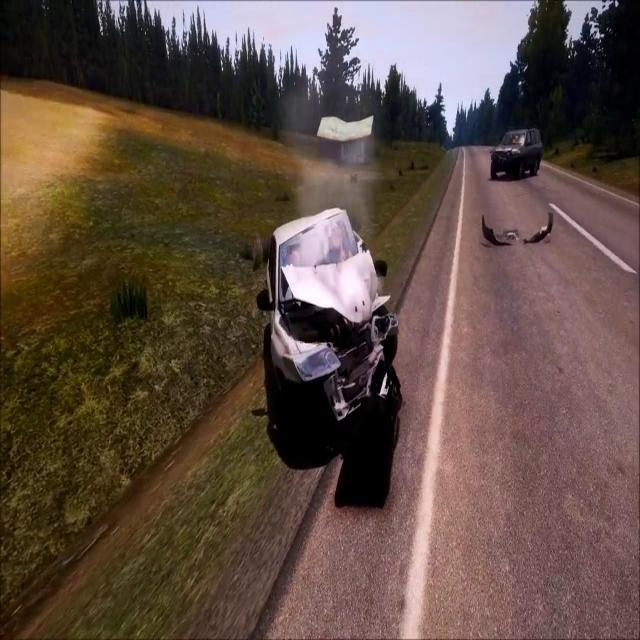accident: (255, 201, 401, 453)
